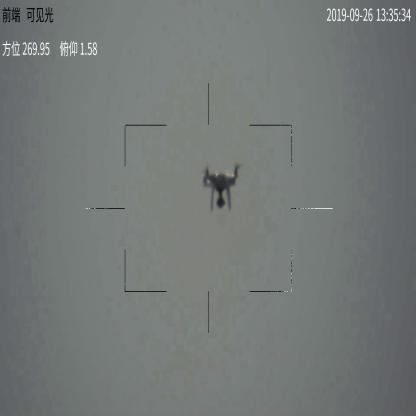uav: (196, 165, 244, 212)
